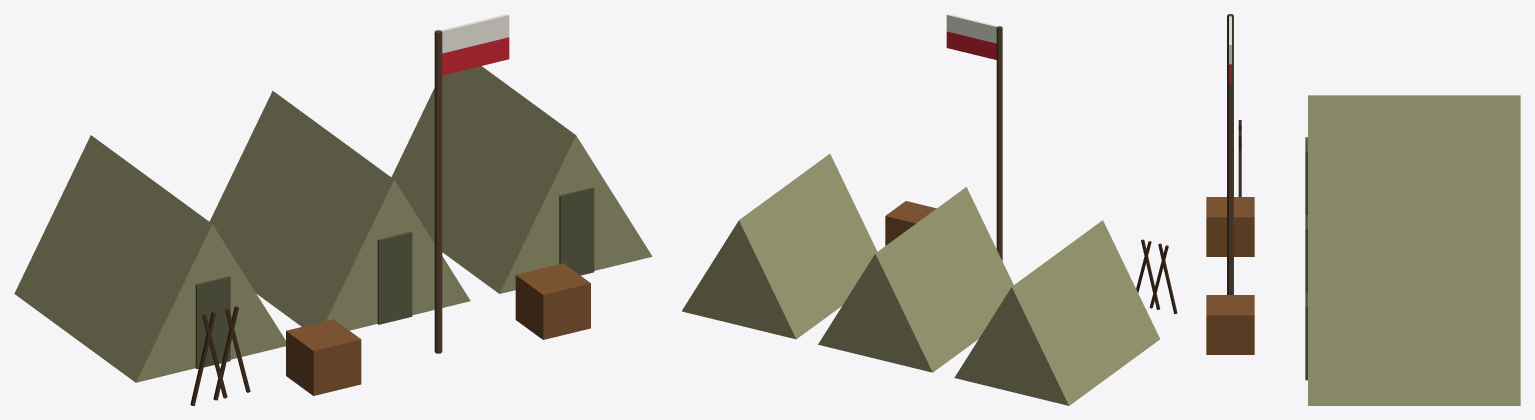
File: oboz.glb
3 renders of one model, left to right at view 1: azimuth 30°, elevation 25°; view 2: azimuth 150°, elevation 25°; view 3: azimuth 270°, elevation 25°, orthographic. The views are drawn at different scales.
Visible parts, largest first — view 1: oboz; view 2: oboz; view 3: oboz.
Boxes of the visible parts, box(x1,y1,x2,y2) form: oboz: box(14, 14, 652, 405); oboz: box(682, 14, 1177, 405); oboz: box(1206, 14, 1520, 405).
Bounding box in the file's own units: 5.4 × 3.2 × 3.25.
